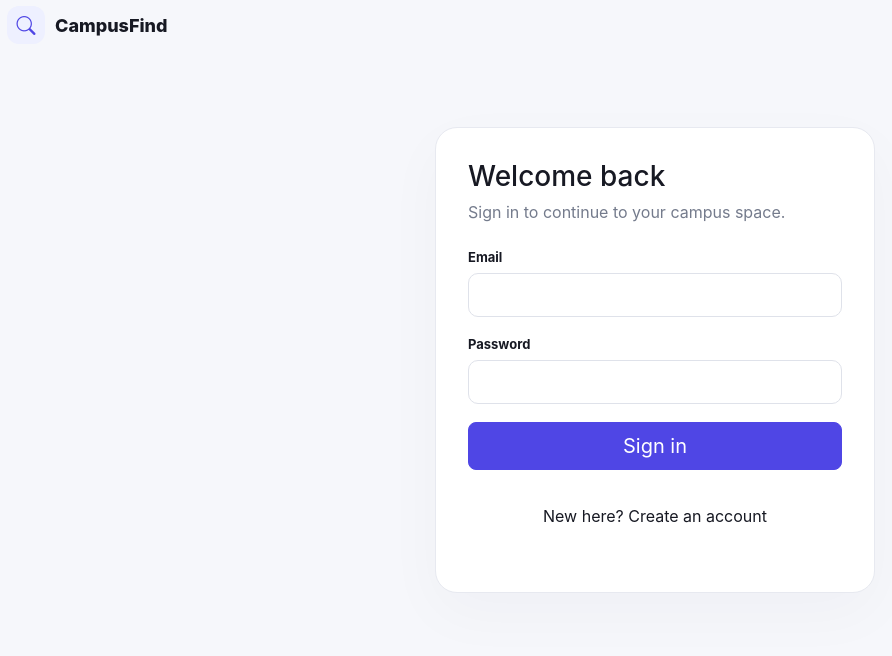
Test: Campus Lost & Found - Automated Testing › TC02 - Invalid login should be rejected
Type "wrong@example.com" into the field with test id "email-input".
click(655, 295); type("wrong@example.com")  # box x1=468 y1=273 x2=842 y2=317
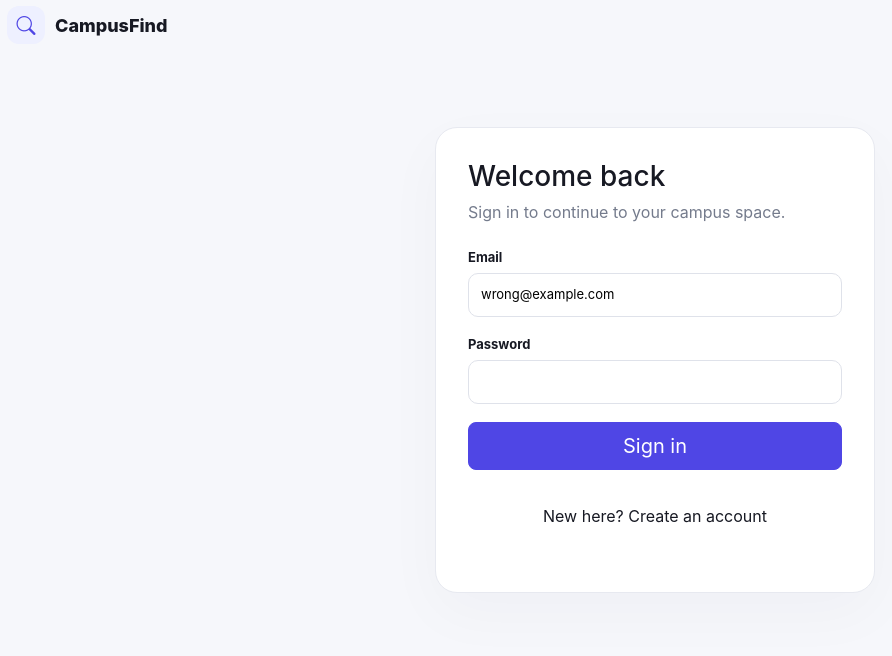
Type "wrongpassword" into the password field with test id "password-input".
click(655, 382); type("wrongpassword")  # box x1=468 y1=360 x2=842 y2=404
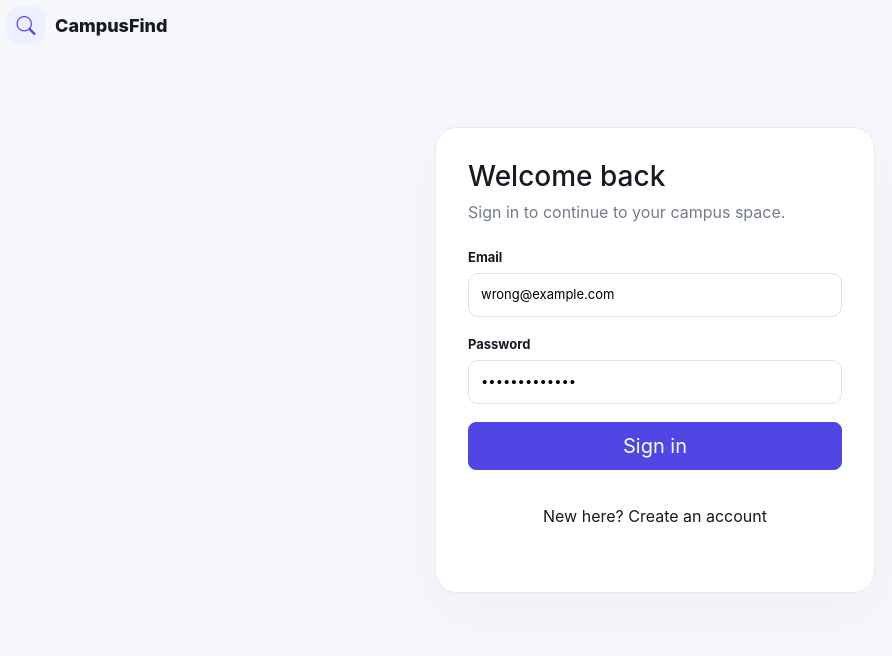
Click the button with test id "login-button".
click(655, 446)  # box x1=468 y1=422 x2=842 y2=470
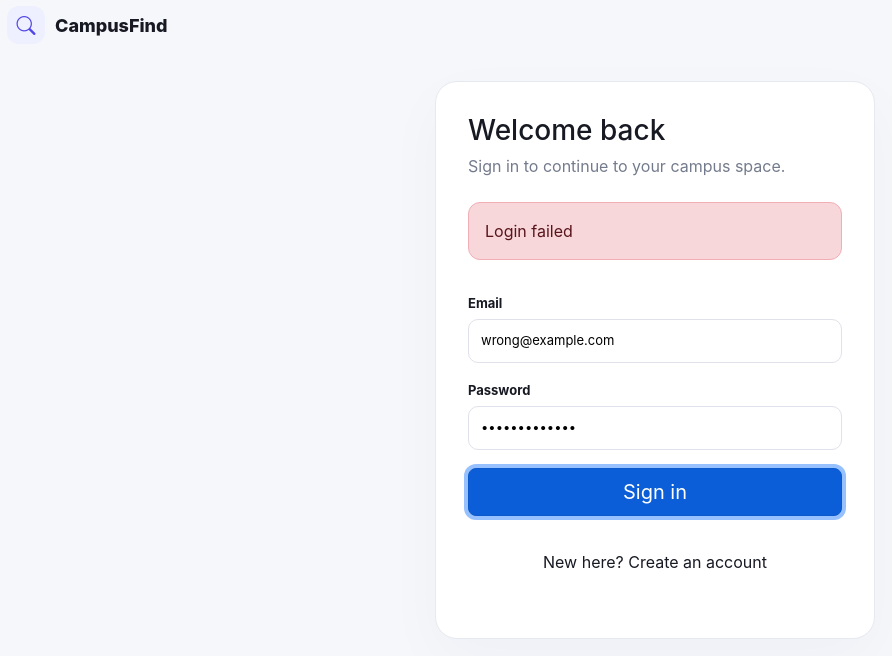
expect the text "Login failed" is shown: met, box x1=468 y1=202 x2=842 y2=260
